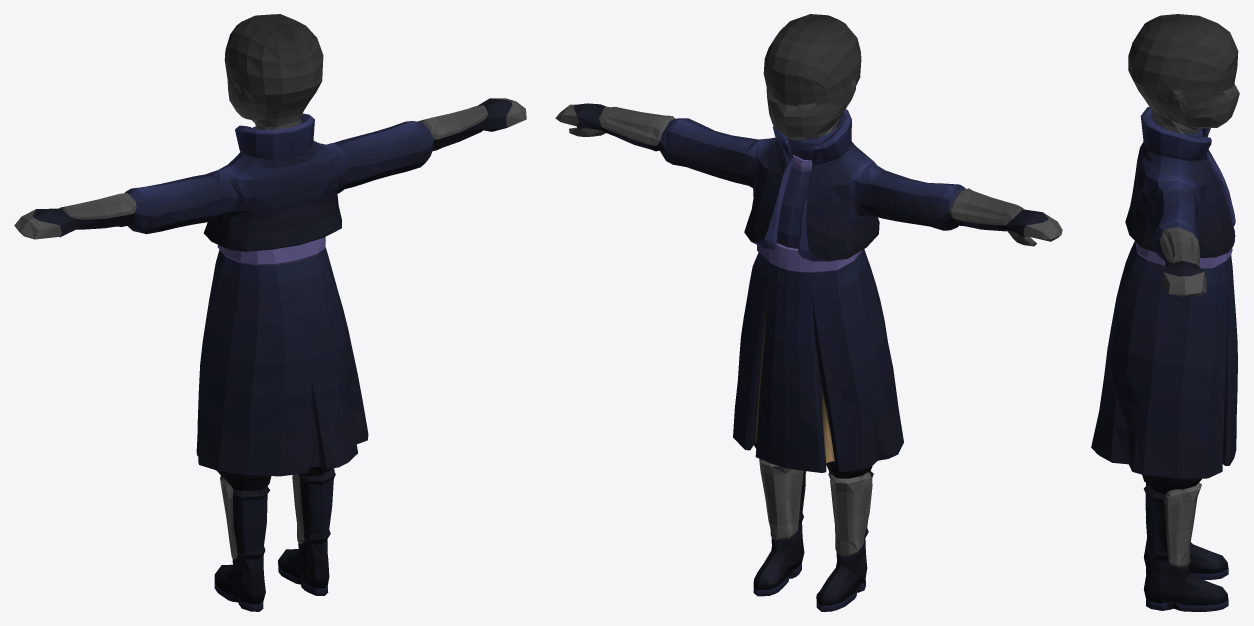
Rendered from CharSkyKid_Body_AP29ShortJacket.glb.
3 views of the same model, side by side, from view 1: azimuth 30°, elevation 25°; view 2: azimuth 150°, elevation 25°; view 3: azimuth 270°, elevation 25° (orthographic).
Visible parts, largest first — view 1: CharSkyKid_Body_AP29ShortJacket; view 2: CharSkyKid_Body_AP29ShortJacket; view 3: CharSkyKid_Body_AP29ShortJacket.
Boxes of the visible parts, left/top/right/bottom form: CharSkyKid_Body_AP29ShortJacket: left=14, top=14, right=526, bottom=611; CharSkyKid_Body_AP29ShortJacket: left=555, top=14, right=1062, bottom=611; CharSkyKid_Body_AP29ShortJacket: left=1091, top=14, right=1239, bottom=611.
Bounding box in the file's own units: 13.83 × 14.91 × 3.52.
Materials: 1 (1 with a texture image).
